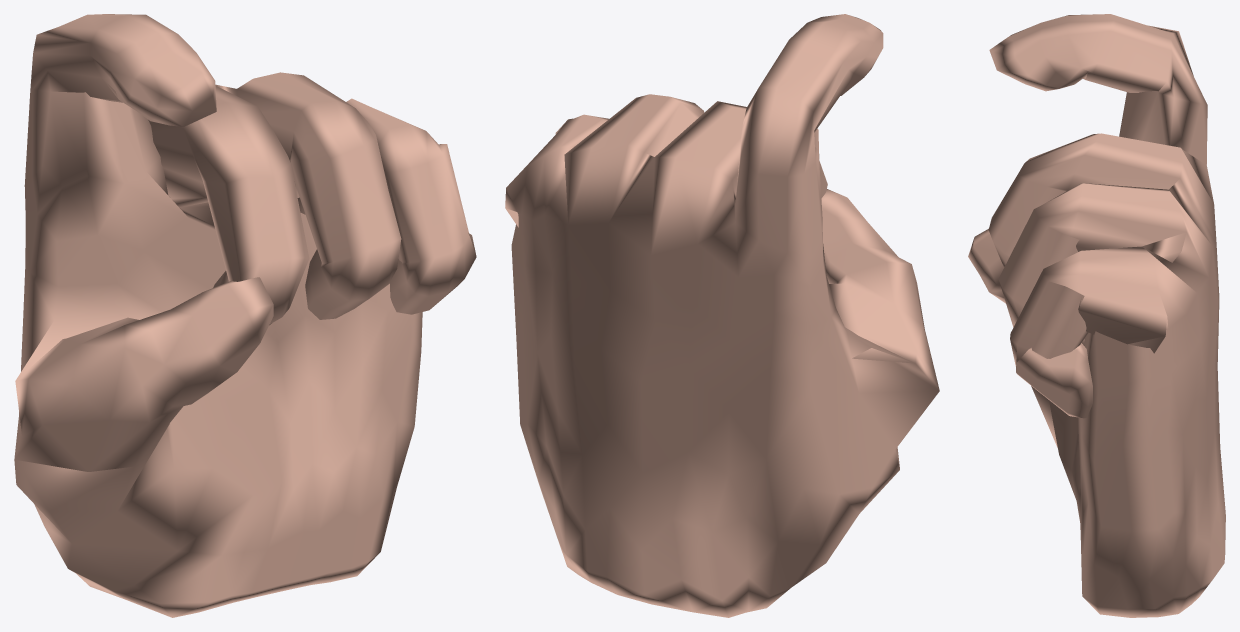
File: FLEXIONADO1.obj
The picture shows the model from 3 angles, left to right: view 1: azimuth 30°, elevation 25°; view 2: azimuth 150°, elevation 25°; view 3: azimuth 270°, elevation 25°; orthographic projection. The views are drawn at different scales.
Visible parts, largest first — view 1: mao_dir polySurface1; view 2: mao_dir polySurface1; view 3: mao_dir polySurface1.
Boxes of the visible parts, bbox=[...] form: mao_dir polySurface1: bbox=[14, 14, 476, 617]; mao_dir polySurface1: bbox=[505, 14, 939, 617]; mao_dir polySurface1: bbox=[968, 14, 1225, 617].
Size of the model in its own units: 136 by 185 by 85.51.
